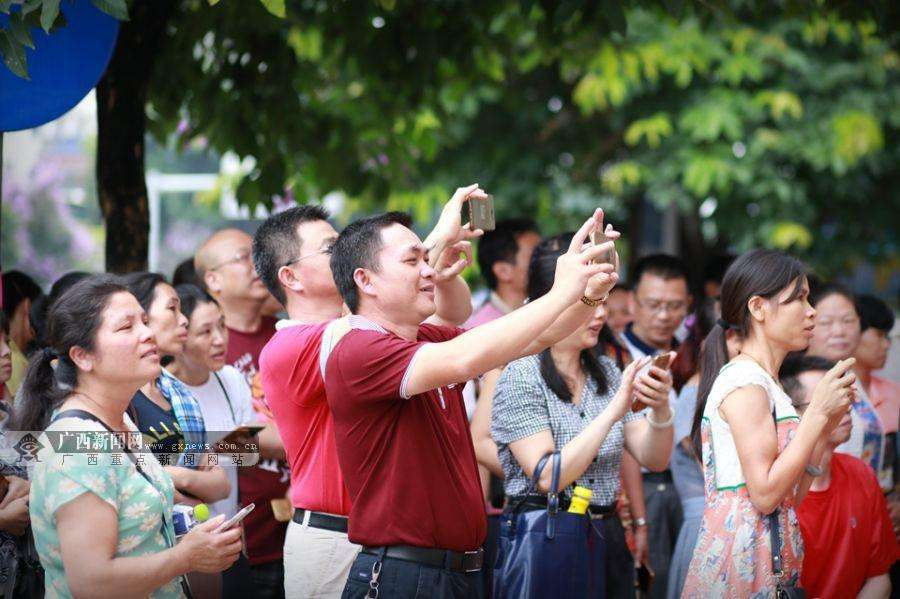taking photos: (551, 204, 625, 302), (429, 175, 503, 245)
